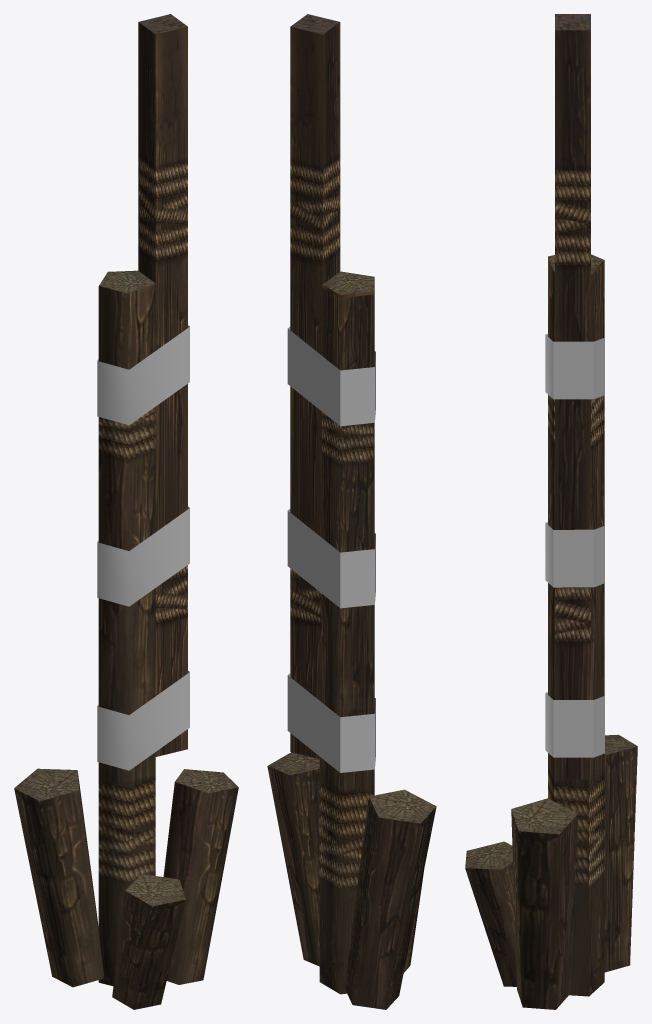
Rendered from A_mutou_017.fbx.
The picture shows the model from 3 angles, left to right: view 1: azimuth 30°, elevation 25°; view 2: azimuth 150°, elevation 25°; view 3: azimuth 270°, elevation 25°; orthographic projection. The views are drawn at different scales.
Parts seen in each view (by area): view 1: A_mutou_017; view 2: A_mutou_017; view 3: A_mutou_017.
Boxes of the visible parts, left/top/right/bottom form: A_mutou_017: left=14, top=14, right=238, bottom=1009; A_mutou_017: left=267, top=14, right=436, bottom=1009; A_mutou_017: left=465, top=14, right=637, bottom=1009.
Bounding box in the file's own units: 86.75 × 433 × 69.07.
